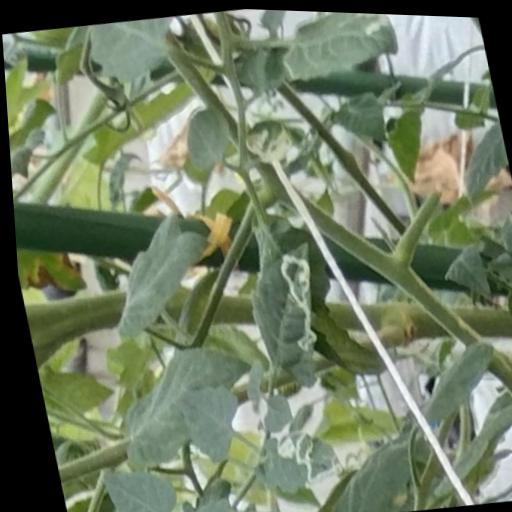Healthy: (98, 333, 264, 475), (93, 221, 224, 342), (166, 377, 249, 471), (90, 459, 176, 512)
Leaf_Miner: (234, 235, 332, 391), (264, 8, 404, 85), (244, 421, 342, 498)
